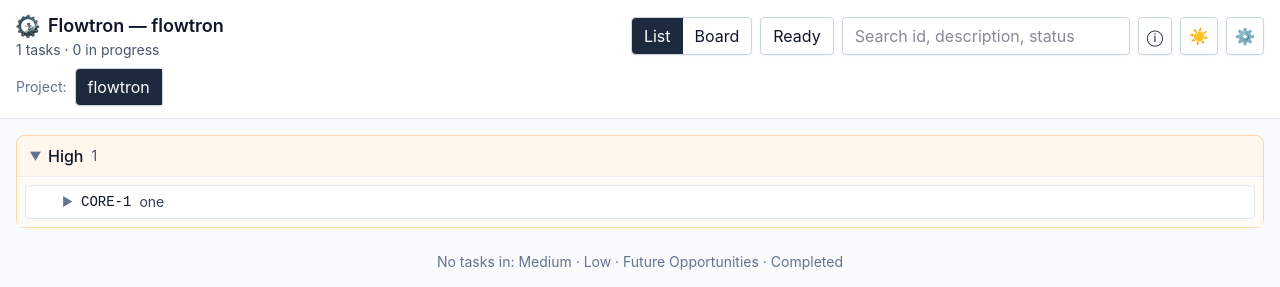
App — App-level characterization gaps › shows "No matches. Press Esc to clear filters." when a query filter matches nothing
This screenshot has width=1280, height=287.
expect the text "CORE-1" is shown: met, box [81,192,131,212]
Type "no-such-task" into the search field at x=986, y=36, box [842,17,1130,55]
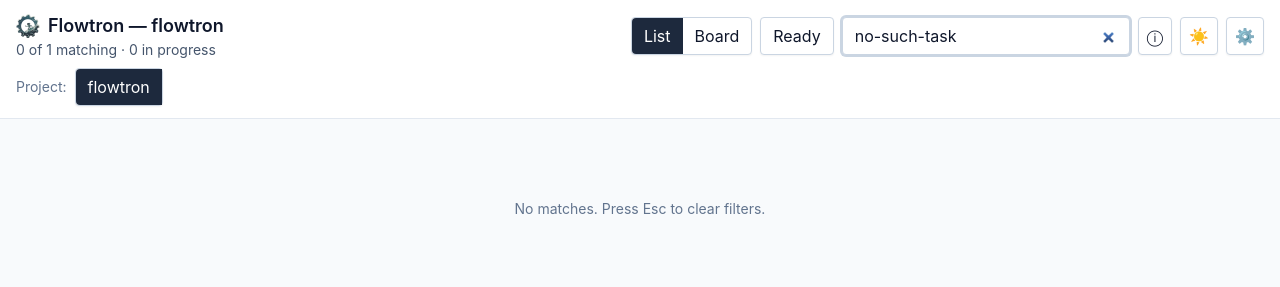
expect the text "No matches. Press Esc to clear filters." is shown: met, box [515,199,766,219]
